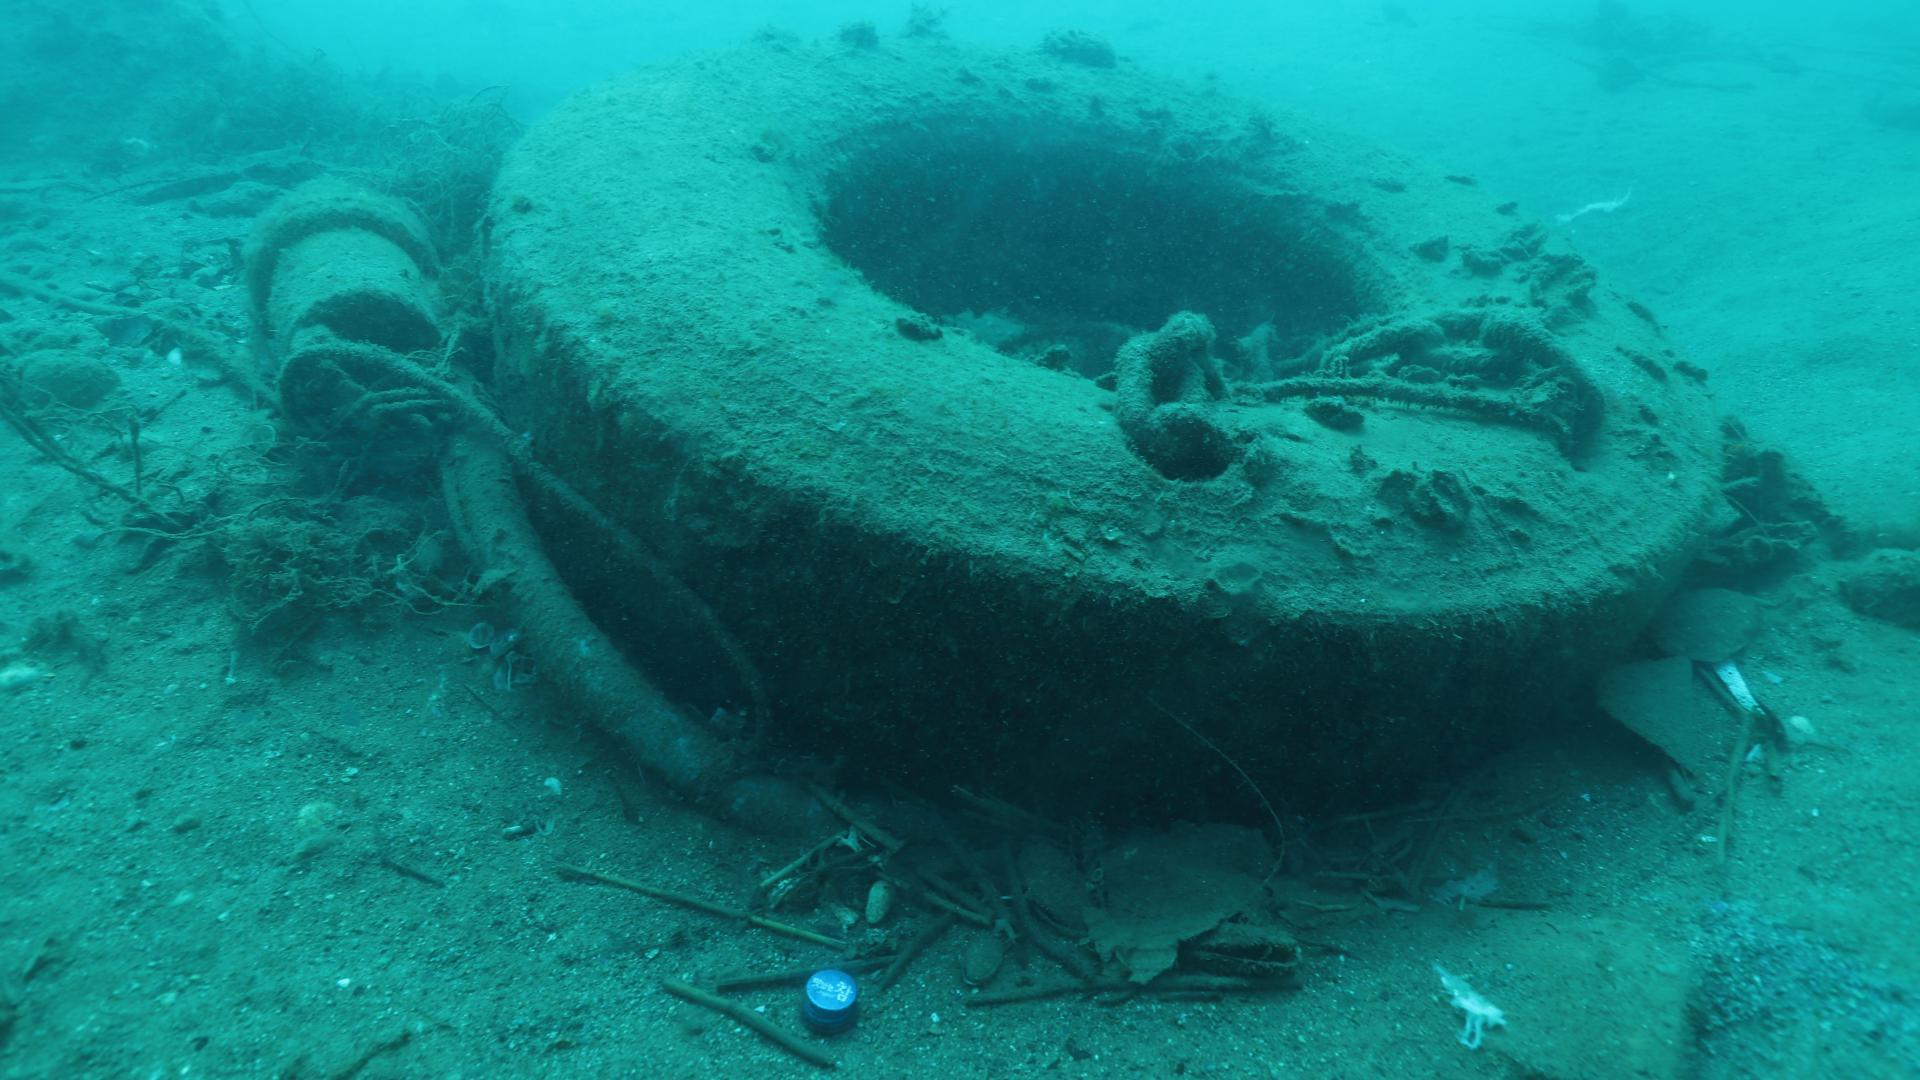tire: (479, 42, 1726, 825)
